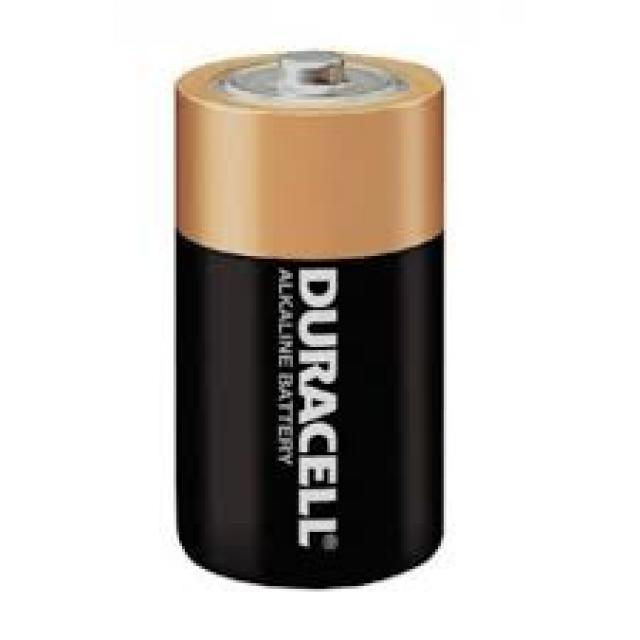battery: (176, 50, 447, 595)
